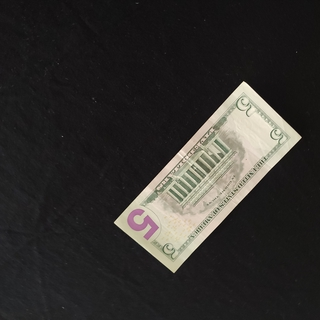5USDBack: (113, 80, 302, 273)
